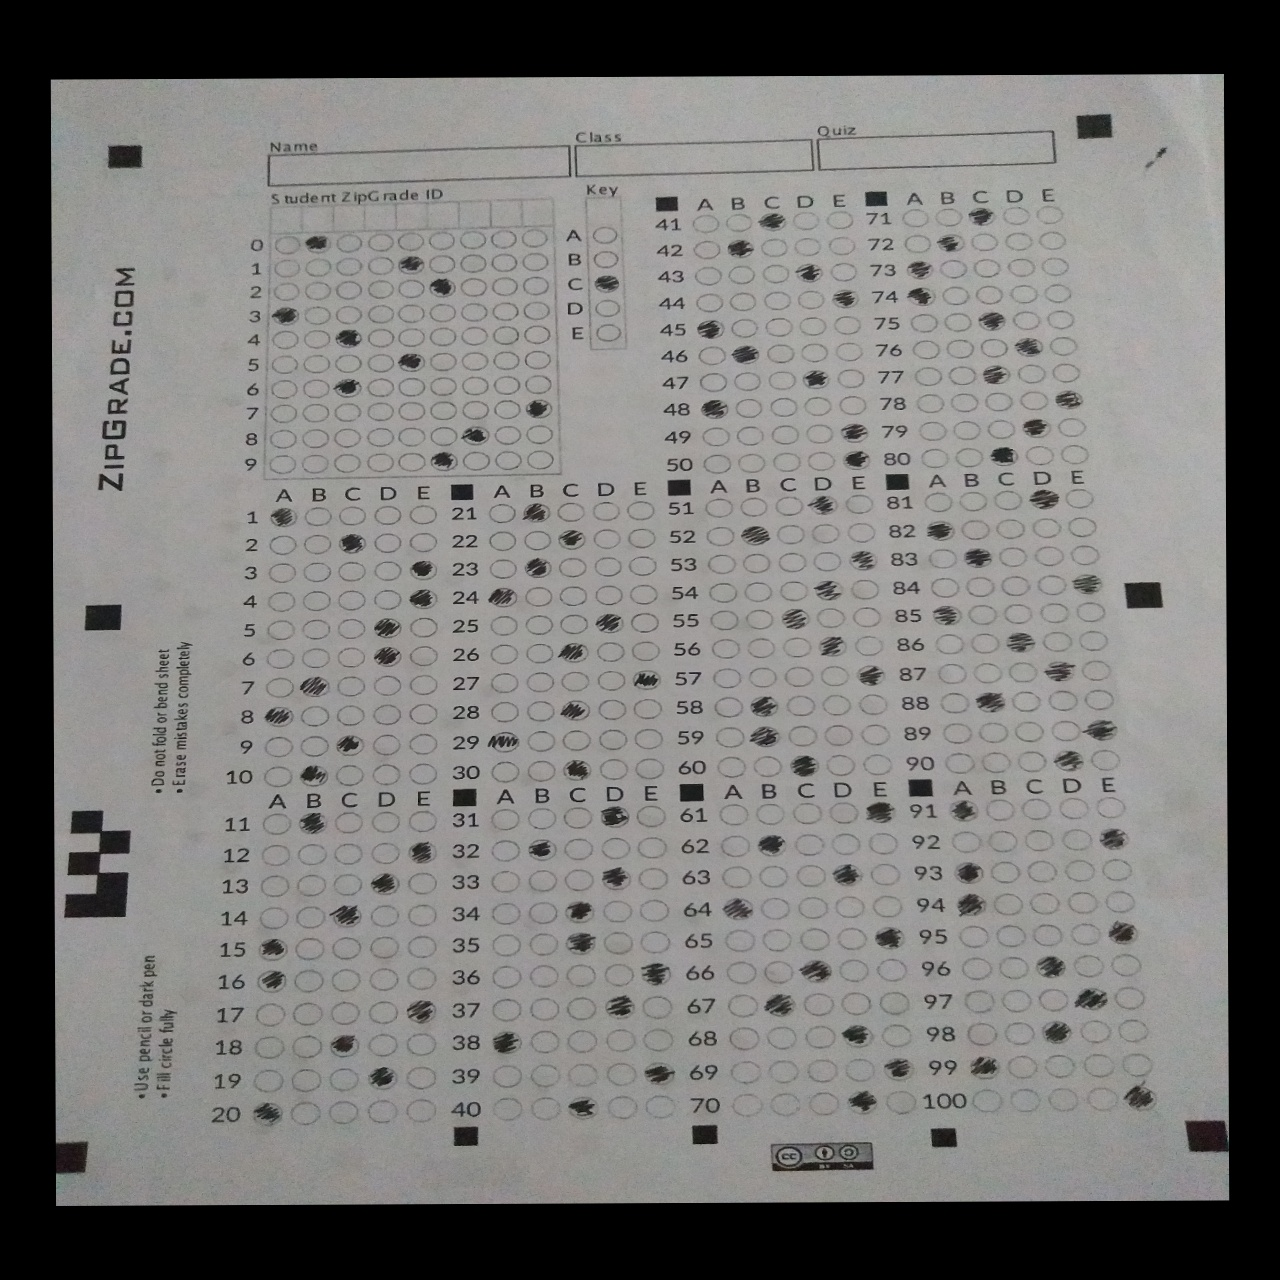not-c: (644, 1094, 683, 1119), (638, 836, 678, 862), (803, 1058, 843, 1084), (799, 992, 839, 1017), (291, 842, 329, 867), (256, 842, 294, 867), (638, 931, 676, 956), (720, 1024, 758, 1050), (836, 956, 874, 982), (789, 801, 828, 826), (796, 897, 835, 922), (757, 896, 796, 921), (291, 905, 331, 930), (250, 1034, 290, 1058), (250, 1000, 290, 1024), (636, 869, 676, 893), (720, 960, 760, 985), (754, 930, 794, 954), (760, 1026, 799, 1050), (292, 937, 329, 962), (602, 1095, 640, 1121), (922, 576, 961, 600), (937, 721, 975, 745), (937, 751, 975, 776), (1013, 749, 1051, 774), (247, 1068, 286, 1092), (254, 873, 293, 898), (406, 810, 444, 835), (522, 871, 560, 896), (639, 994, 678, 1019), (639, 1027, 678, 1051), (601, 1028, 640, 1053), (599, 965, 638, 989), (599, 932, 638, 956), (599, 837, 638, 862), (639, 898, 678, 922), (633, 803, 672, 828), (761, 1058, 799, 1083), (722, 994, 761, 1019), (716, 928, 755, 953), (712, 836, 750, 860), (843, 1057, 881, 1082), (792, 863, 831, 887), (790, 832, 829, 857), (753, 804, 791, 829), (756, 864, 795, 888), (1115, 983, 1150, 1010), (928, 631, 965, 656), (1077, 1016, 1114, 1042), (1034, 924, 1070, 949), (1115, 1017, 1151, 1043), (1068, 921, 1104, 947), (1101, 890, 1137, 915), (796, 930, 836, 953), (920, 547, 958, 572), (259, 811, 297, 836), (288, 1034, 326, 1058), (292, 1000, 329, 1024), (368, 842, 406, 866), (365, 903, 402, 927), (324, 1101, 361, 1125), (324, 1068, 361, 1092), (331, 809, 368, 833), (488, 965, 525, 989), (486, 998, 524, 1022), (402, 1032, 440, 1056), (561, 870, 599, 894), (526, 998, 564, 1022), (523, 932, 560, 956), (524, 806, 561, 831), (485, 901, 523, 926), (486, 806, 524, 831), (602, 1062, 640, 1087), (601, 900, 639, 925), (724, 1058, 762, 1083), (717, 803, 755, 828), (838, 990, 876, 1015), (915, 491, 954, 515), (931, 692, 969, 715), (290, 874, 328, 898), (325, 1001, 363, 1024), (489, 1099, 527, 1123), (401, 1065, 440, 1089), (523, 964, 561, 987), (486, 872, 525, 896), (488, 838, 526, 862), (715, 866, 754, 890), (799, 1024, 838, 1048), (1078, 1053, 1114, 1078), (1065, 890, 1101, 915), (930, 660, 966, 685), (1046, 719, 1082, 743), (335, 646, 372, 670), (482, 501, 518, 525), (367, 809, 403, 833), (329, 840, 366, 865), (403, 871, 440, 896), (526, 1096, 563, 1121), (1069, 953, 1105, 978), (1035, 987, 1071, 1012), (1027, 891, 1063, 915), (1118, 1050, 1155, 1075), (1062, 858, 1098, 883), (1055, 797, 1091, 822), (1099, 858, 1136, 883), (1109, 953, 1145, 978), (976, 750, 1014, 774), (1042, 688, 1080, 712), (992, 518, 1029, 542), (707, 636, 744, 660), (299, 590, 336, 613), (557, 585, 594, 608), (254, 906, 292, 930), (561, 838, 599, 862), (290, 968, 327, 992), (368, 935, 406, 959), (361, 1001, 399, 1024), (363, 1034, 401, 1057), (327, 874, 365, 898), (488, 1065, 525, 1089), (406, 967, 443, 990), (563, 964, 600, 987), (564, 1030, 601, 1054), (565, 1063, 602, 1087), (526, 1063, 564, 1087), (527, 1030, 565, 1054), (524, 900, 561, 924), (561, 806, 599, 830), (760, 960, 797, 983), (821, 693, 856, 717), (1085, 1087, 1121, 1111), (1042, 1055, 1077, 1080), (1058, 830, 1094, 855), (1092, 797, 1128, 822), (998, 545, 1034, 568), (969, 660, 1006, 683), (784, 695, 821, 719), (777, 636, 813, 660), (706, 697, 742, 721), (699, 495, 735, 518), (810, 523, 846, 546), (818, 663, 855, 687), (856, 692, 892, 715), (859, 722, 896, 745), (370, 674, 407, 697), (369, 763, 406, 787), (408, 702, 444, 726), (335, 704, 372, 728), (297, 736, 333, 760), (258, 619, 294, 642), (522, 697, 558, 721), (519, 640, 556, 663), (519, 529, 556, 552), (287, 1103, 324, 1126), (288, 1069, 325, 1092), (365, 1099, 401, 1123), (328, 969, 365, 993), (331, 937, 367, 960), (404, 1099, 441, 1123), (404, 934, 441, 958), (960, 956, 994, 981), (849, 606, 886, 628), (843, 524, 880, 546), (966, 632, 1003, 654), (774, 524, 811, 546), (738, 552, 776, 574), (708, 724, 745, 747), (708, 667, 745, 689), (701, 553, 738, 576), (701, 524, 738, 546), (808, 551, 845, 573), (824, 754, 862, 776), (406, 734, 443, 756), (257, 765, 294, 788), (520, 729, 558, 751), (590, 501, 627, 523), (629, 641, 667, 663), (629, 727, 667, 749), (560, 998, 598, 1020), (737, 497, 772, 520), (372, 733, 407, 756), (370, 530, 406, 553), (263, 591, 298, 614), (486, 760, 522, 783), (485, 530, 520, 553), (629, 556, 665, 579), (595, 726, 631, 749), (556, 613, 591, 636), (554, 557, 590, 580), (1024, 862, 1060, 885), (1040, 628, 1076, 651), (1007, 662, 1043, 685), (1012, 721, 1048, 743), (975, 722, 1012, 744), (956, 519, 993, 542), (813, 607, 850, 629), (785, 724, 822, 747), (783, 665, 819, 687), (776, 579, 812, 601), (776, 550, 812, 572), (772, 495, 809, 517), (750, 754, 787, 776), (706, 580, 742, 602), (862, 753, 898, 775), (407, 762, 443, 784), (409, 674, 445, 696), (409, 644, 445, 666), (370, 558, 407, 580), (411, 504, 448, 526), (334, 674, 370, 696), (336, 617, 373, 639), (335, 590, 372, 612), (297, 508, 333, 530), (299, 620, 335, 642), (298, 648, 334, 670), (260, 737, 297, 760), (266, 563, 302, 585), (558, 668, 594, 690), (523, 760, 559, 782), (519, 613, 556, 635), (520, 586, 557, 608), (556, 502, 592, 524), (484, 672, 520, 694), (482, 644, 518, 666), (479, 557, 516, 579), (629, 612, 666, 634), (593, 586, 629, 608), (593, 557, 629, 579), (591, 526, 627, 549), (367, 968, 403, 990), (869, 863, 901, 887), (769, 1092, 802, 1117), (1009, 1089, 1042, 1114), (969, 1089, 1002, 1114), (884, 1089, 917, 1114), (951, 829, 983, 853), (1022, 829, 1055, 853), (1003, 1021, 1036, 1046), (1008, 1055, 1041, 1080), (996, 924, 1029, 948), (828, 803, 862, 826), (1046, 1088, 1080, 1111), (983, 798, 1017, 822), (956, 926, 990, 949), (1019, 798, 1053, 822), (999, 989, 1033, 1013), (998, 956, 1032, 980), (990, 892, 1024, 915), (985, 830, 1019, 853), (960, 576, 998, 597), (297, 704, 334, 726), (850, 579, 885, 601), (840, 495, 876, 517), (1009, 689, 1044, 712), (742, 610, 777, 632), (743, 636, 778, 659), (744, 666, 779, 688), (710, 756, 745, 778), (853, 635, 888, 658), (333, 764, 368, 787), (338, 560, 373, 583), (336, 504, 372, 526), (372, 704, 407, 727), (560, 729, 595, 751), (622, 501, 658, 523), (486, 699, 522, 721), (595, 670, 631, 693), (636, 760, 672, 782), (629, 583, 665, 605), (628, 527, 663, 550), (486, 934, 522, 956), (407, 903, 438, 927), (832, 832, 865, 856), (835, 896, 867, 919), (874, 956, 907, 980), (864, 833, 897, 857), (728, 1092, 761, 1116), (881, 1024, 914, 1048), (878, 992, 911, 1015), (806, 1090, 839, 1114), (966, 1022, 999, 1046), (966, 602, 1002, 624), (998, 574, 1034, 595), (822, 724, 858, 745), (373, 588, 409, 610), (373, 506, 409, 527), (257, 678, 293, 699), (482, 617, 518, 638), (593, 642, 629, 663), (636, 696, 670, 719), (836, 928, 870, 951), (987, 860, 1021, 883), (1003, 602, 1039, 624), (1039, 601, 1074, 622), (740, 583, 775, 604), (703, 608, 738, 629), (404, 617, 440, 638), (408, 533, 443, 554), (302, 561, 338, 583), (299, 535, 334, 556), (261, 649, 297, 670), (263, 535, 298, 556), (525, 670, 560, 692), (597, 760, 632, 781), (595, 697, 631, 719), (870, 896, 903, 918), (964, 989, 996, 1012), (956, 490, 988, 512), (268, 329, 301, 350), (459, 400, 492, 421), (1033, 546, 1065, 567), (363, 352, 394, 374), (941, 286, 972, 308), (333, 233, 365, 254), (302, 305, 334, 326), (363, 279, 395, 300), (332, 280, 363, 301), (332, 428, 363, 449), (332, 353, 363, 374), (459, 254, 491, 275), (425, 254, 457, 275), (459, 451, 491, 472), (428, 352, 459, 373), (520, 324, 552, 345), (520, 253, 552, 274), (486, 253, 518, 274), (525, 449, 557, 470), (796, 342, 828, 363), (835, 342, 866, 363), (768, 424, 799, 445), (801, 395, 832, 416), (768, 397, 799, 418), (761, 263, 792, 284), (733, 397, 764, 418), (588, 225, 620, 246), (590, 248, 621, 270), (942, 339, 974, 360), (952, 447, 983, 468), (915, 421, 947, 442), (1005, 232, 1036, 253), (1012, 309, 1043, 331), (1017, 363, 1049, 384), (983, 418, 1015, 440), (1058, 443, 1090, 464), (1043, 282, 1075, 304), (1040, 254, 1071, 275), (990, 490, 1022, 511), (932, 207, 964, 229), (1091, 750, 1123, 771), (1075, 629, 1107, 651), (1068, 545, 1099, 566), (425, 230, 458, 250), (365, 232, 397, 252), (268, 259, 301, 279), (268, 404, 301, 424), (366, 328, 399, 348), (699, 425, 731, 445), (693, 292, 726, 312), (944, 366, 976, 386), (396, 278, 425, 300), (520, 275, 551, 297), (267, 452, 298, 474), (268, 429, 299, 450), (268, 380, 299, 401), (300, 428, 331, 449), (300, 379, 331, 400), (429, 328, 459, 349), (459, 302, 490, 324), (492, 400, 523, 421), (493, 349, 524, 370), (459, 377, 490, 399), (458, 350, 489, 372), (365, 451, 395, 472), (363, 425, 394, 447), (492, 325, 523, 346), (459, 327, 490, 348), (797, 316, 828, 338), (804, 423, 835, 444), (764, 343, 795, 365), (764, 316, 795, 338), (760, 238, 790, 259), (723, 265, 754, 286), (692, 239, 722, 260), (912, 338, 942, 359), (903, 207, 933, 229), (826, 210, 857, 231), (974, 285, 1005, 306), (1009, 282, 1040, 304), (1022, 444, 1053, 465), (1058, 416, 1089, 437), (1051, 362, 1082, 383), (1039, 230, 1069, 251), (1002, 205, 1033, 226), (1032, 517, 1062, 538), (1083, 661, 1114, 682), (1065, 517, 1096, 538), (491, 274, 522, 295), (488, 229, 519, 248), (271, 234, 302, 254), (492, 425, 524, 445), (332, 257, 363, 277), (268, 354, 300, 374), (302, 258, 334, 278), (365, 304, 396, 324), (333, 452, 365, 472), (333, 402, 365, 422), (299, 455, 331, 475), (300, 354, 332, 374), (427, 304, 458, 324), (396, 304, 428, 324), (523, 374, 554, 394), (519, 349, 551, 369), (427, 427, 458, 447), (428, 401, 459, 421), (428, 376, 459, 396), (395, 451, 427, 471), (366, 400, 397, 420), (365, 377, 396, 397), (523, 301, 554, 321), (829, 263, 860, 282), (835, 369, 866, 389), (837, 395, 869, 415), (806, 452, 838, 472), (765, 372, 797, 392), (761, 292, 792, 312), (727, 292, 758, 312), (731, 372, 763, 392), (701, 455, 733, 475), (697, 372, 729, 392), (695, 345, 727, 365), (690, 266, 722, 286), (590, 298, 621, 318), (591, 324, 622, 343), (951, 421, 982, 441), (939, 314, 971, 334), (939, 259, 971, 279), (908, 314, 940, 334), (973, 259, 1005, 279), (1007, 258, 1039, 278), (982, 390, 1014, 410), (1017, 390, 1049, 410), (1048, 338, 1080, 358), (1046, 309, 1077, 329), (1033, 204, 1064, 224), (971, 231, 1002, 251), (1037, 576, 1069, 595), (457, 229, 488, 248), (395, 231, 425, 251), (519, 229, 550, 248), (302, 258, 333, 278), (302, 354, 333, 374), (301, 328, 332, 348), (363, 256, 394, 275), (300, 281, 331, 301), (268, 282, 299, 302), (334, 305, 365, 325), (300, 404, 331, 424), (458, 278, 489, 298), (397, 328, 428, 348), (492, 376, 523, 396), (399, 399, 429, 418), (395, 376, 425, 396), (395, 425, 425, 445), (490, 302, 520, 322), (526, 424, 557, 444), (492, 450, 523, 470), (832, 315, 863, 335), (769, 450, 799, 470), (724, 213, 755, 233), (730, 319, 761, 339), (735, 425, 765, 445), (737, 452, 768, 472), (692, 215, 722, 234), (949, 392, 980, 411), (919, 448, 949, 468), (914, 394, 945, 414), (913, 367, 944, 387), (900, 234, 931, 254), (794, 211, 824, 231), (791, 237, 822, 257), (828, 237, 858, 257), (978, 338, 1008, 358), (1065, 489, 1096, 509), (1080, 600, 1110, 620), (1083, 692, 1114, 712), (796, 290, 826, 309)
taken-c: (1073, 986, 1112, 1012), (825, 862, 865, 887), (636, 1060, 676, 1085), (563, 1095, 602, 1121), (719, 896, 757, 921), (248, 1099, 287, 1125), (324, 1033, 362, 1058), (401, 998, 440, 1023), (292, 809, 331, 835), (797, 958, 836, 983), (760, 992, 798, 1017), (1040, 659, 1078, 685), (787, 754, 826, 778), (951, 860, 990, 885), (1101, 919, 1141, 944), (965, 1054, 1005, 1078), (1121, 1085, 1160, 1110), (837, 1023, 877, 1048), (590, 612, 629, 636), (972, 690, 1012, 715), (328, 904, 366, 930), (1037, 1019, 1075, 1044), (332, 733, 370, 757), (592, 803, 631, 828), (598, 869, 636, 893), (599, 993, 638, 1017), (486, 1029, 525, 1054), (636, 962, 675, 987), (251, 968, 290, 993), (945, 798, 983, 823), (753, 833, 791, 858), (523, 836, 561, 860), (1033, 954, 1071, 979), (843, 1089, 881, 1114), (295, 673, 334, 697), (1051, 748, 1090, 772), (951, 893, 990, 917), (260, 704, 298, 729), (559, 930, 597, 954), (559, 899, 597, 924), (362, 1065, 400, 1090), (256, 935, 293, 960), (860, 801, 898, 825), (403, 840, 441, 865), (402, 557, 440, 581), (1002, 628, 1040, 653), (1026, 486, 1063, 511), (558, 756, 597, 779), (554, 696, 593, 720), (365, 872, 403, 896), (869, 926, 907, 949), (879, 1057, 918, 1081), (1081, 717, 1119, 741), (1095, 825, 1133, 849), (484, 728, 520, 753), (744, 695, 781, 720), (928, 604, 965, 628), (745, 723, 783, 747), (294, 763, 332, 787), (406, 586, 443, 610), (556, 640, 593, 663), (1068, 572, 1105, 595), (812, 635, 851, 658), (850, 663, 888, 686), (983, 443, 1020, 467), (266, 305, 302, 328), (486, 585, 520, 610), (809, 579, 846, 601), (775, 607, 812, 629), (721, 237, 758, 259), (628, 668, 663, 692), (737, 524, 772, 547), (901, 257, 937, 280), (518, 556, 554, 578), (921, 519, 958, 542), (845, 549, 881, 571), (333, 532, 369, 554), (518, 502, 554, 524), (973, 308, 1009, 331), (1049, 388, 1085, 410), (825, 287, 862, 309), (961, 205, 998, 227), (930, 233, 966, 256), (959, 547, 996, 568), (978, 365, 1015, 386), (805, 493, 840, 516), (553, 527, 588, 550), (901, 286, 937, 308), (1017, 417, 1053, 440), (692, 318, 727, 340), (790, 261, 826, 282), (370, 645, 404, 667), (263, 506, 298, 527), (395, 350, 427, 374), (370, 617, 403, 639), (331, 376, 363, 399), (697, 399, 730, 421), (1012, 336, 1046, 358), (727, 343, 761, 365), (424, 277, 458, 298), (839, 448, 871, 470), (755, 211, 787, 233), (837, 423, 869, 445), (393, 254, 428, 274), (332, 328, 365, 349), (801, 368, 833, 389), (590, 275, 624, 295), (458, 425, 490, 447), (427, 451, 459, 471), (520, 399, 553, 418), (302, 233, 331, 252)
